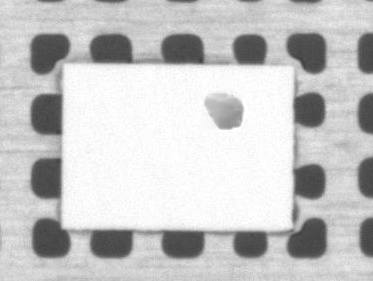DIE_INK: (204, 89, 243, 130)
